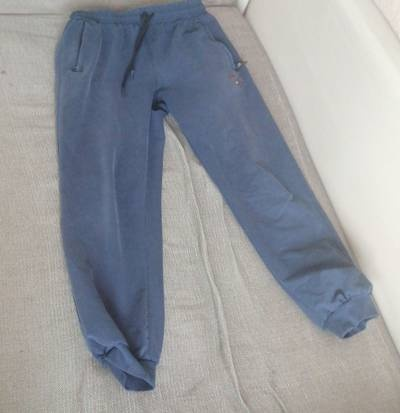Pants: (47, 8, 385, 374)
